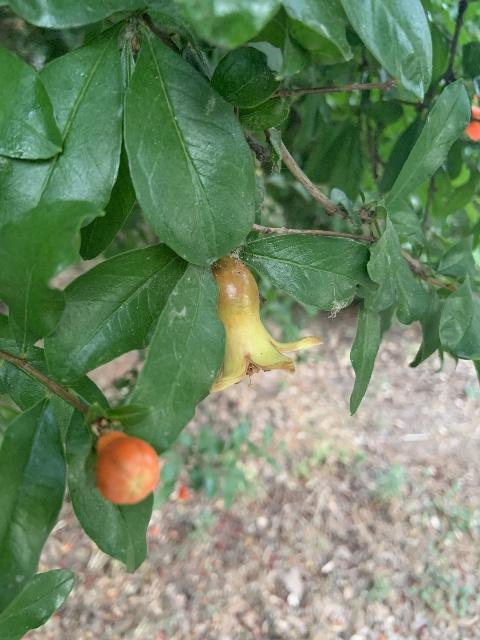bud: (95, 431, 158, 505)
early-fruit: (209, 254, 323, 396)
